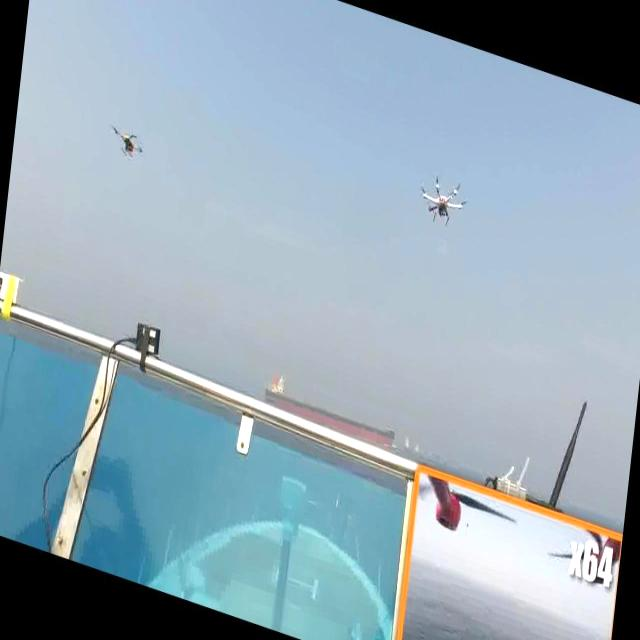drone: (412, 159, 472, 232), (108, 115, 146, 168)
